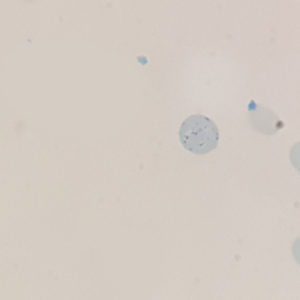aggregate reticulocyte: (177, 113, 221, 156)
erythrocyte: (244, 98, 286, 137)
